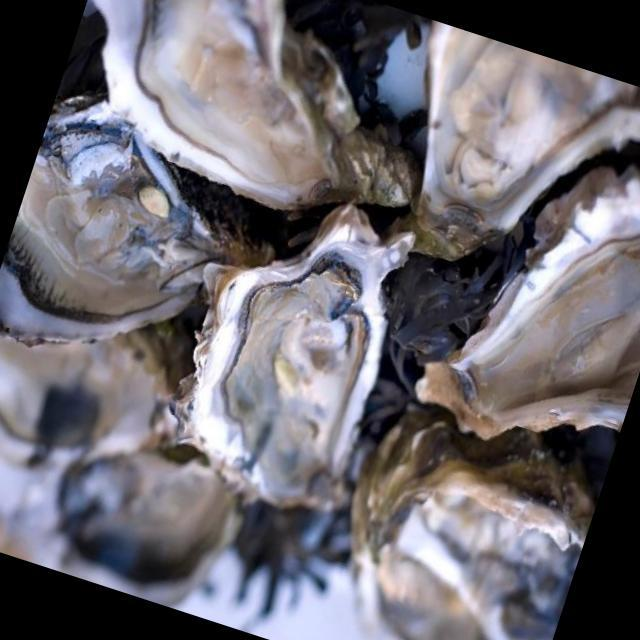Oyster-Open: (134, 160, 442, 538), (42, 0, 460, 251), (401, 49, 640, 478), (0, 85, 294, 412), (362, 20, 640, 322), (302, 402, 606, 640), (0, 266, 208, 518), (26, 421, 257, 621)
